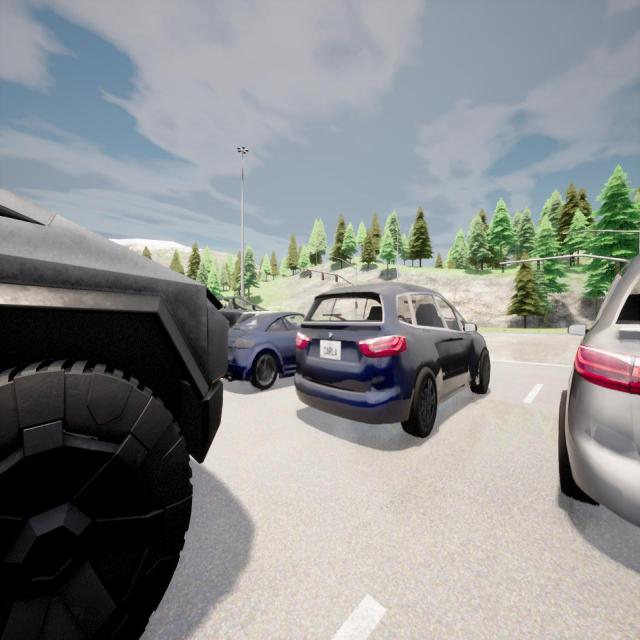Vehicle: (0, 189, 227, 638), (294, 283, 490, 437), (559, 246, 640, 523), (225, 310, 306, 390), (213, 294, 264, 314)
traffic_light: (571, 256, 575, 268), (537, 260, 540, 270), (502, 264, 505, 273), (335, 275, 338, 282), (309, 270, 311, 278), (322, 272, 324, 280)
